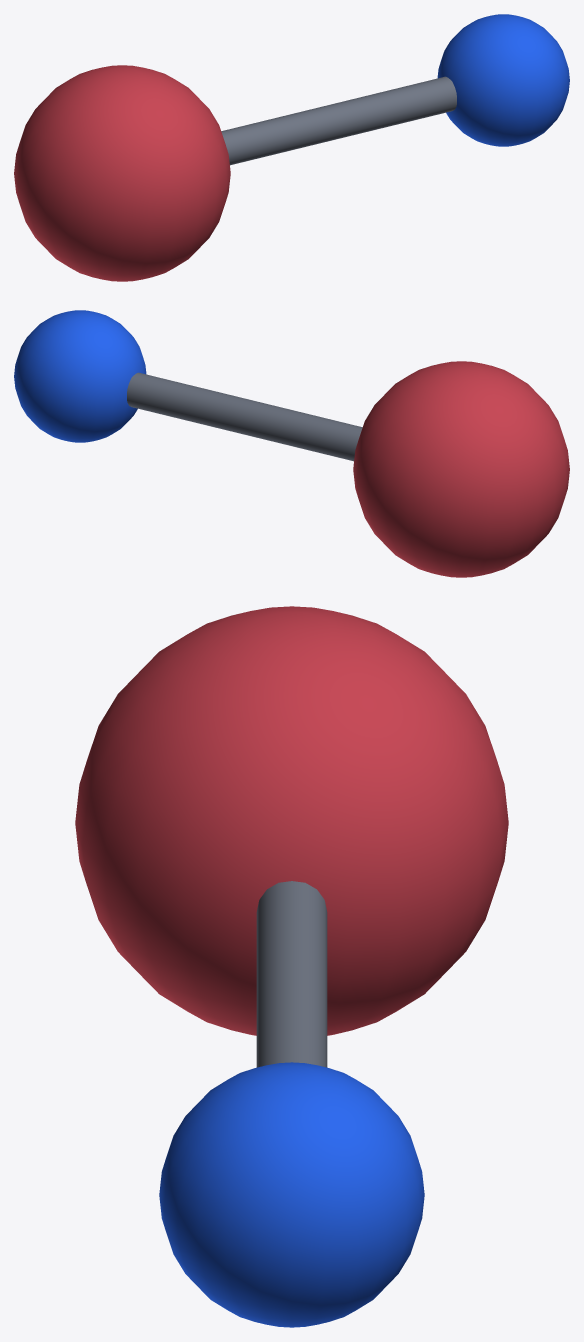
Rendered from lih.glb.
3 views of the same model, one above another, from view 1: azimuth 30°, elevation 25°; view 2: azimuth 150°, elevation 25°; view 3: azimuth 270°, elevation 25° (orthographic). The views are drawn at different scales.
Parts seen in each view (by area): view 1: Li1, H1, object 3; view 2: Li1, H1, object 3; view 3: Li1, H1, object 3.
Boxes of the visible parts, left/top/right/bottom form: Li1: left=14, top=65, right=230, bottom=281; H1: left=437, top=14, right=569, bottom=146; object 3: left=221, top=76, right=456, bottom=165; Li1: left=353, top=361, right=569, bottom=577; H1: left=14, top=310, right=146, bottom=442; object 3: left=127, top=372, right=362, bottom=461; Li1: left=75, top=606, right=508, bottom=1035; H1: left=159, top=1062, right=424, bottom=1327; object 3: left=256, top=881, right=327, bottom=1067.
Size of the model in its own units: 0.278 by 0.098 by 0.098.
